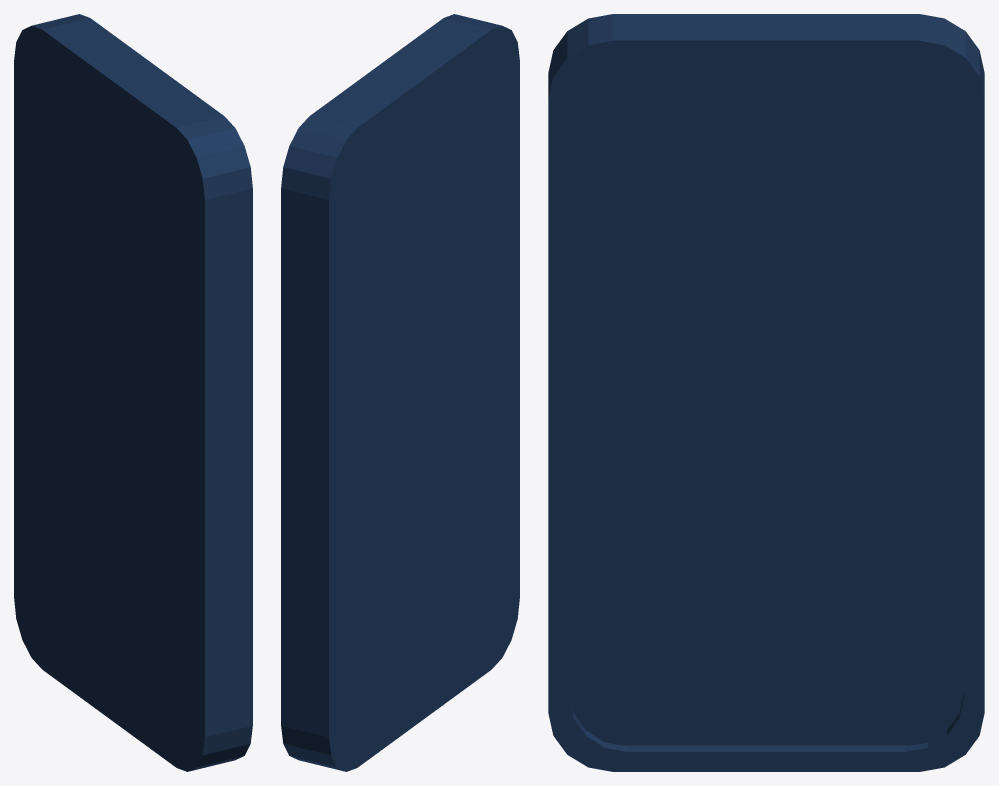
File: Courtines_Button_optimized.glb
3 renders of one model, left to right at view 1: azimuth 30°, elevation 25°; view 2: azimuth 150°, elevation 25°; view 3: azimuth 270°, elevation 25°, orthographic. The views are drawn at different scales.
Parts seen in each view (by area): view 1: Courtines_Button; view 2: Courtines_Button; view 3: Courtines_Button.
Part boxes in pixels (bbox=[...]): Courtines_Button: bbox=[14, 14, 252, 771]; Courtines_Button: bbox=[281, 14, 519, 771]; Courtines_Button: bbox=[548, 14, 984, 771].
Size of the model in its own units: 0.0332 by 0.4232 by 0.2288.
